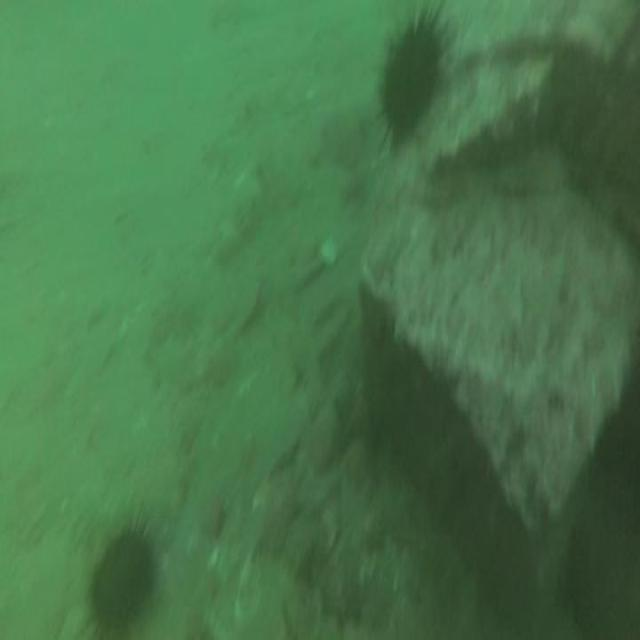echinus: (374, 5, 449, 156), (87, 510, 159, 640)
